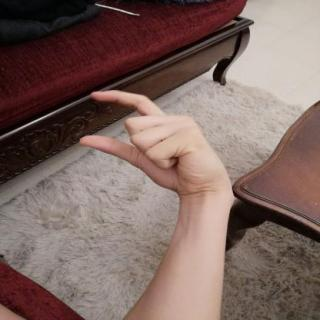DELL: (70, 82, 239, 202)
